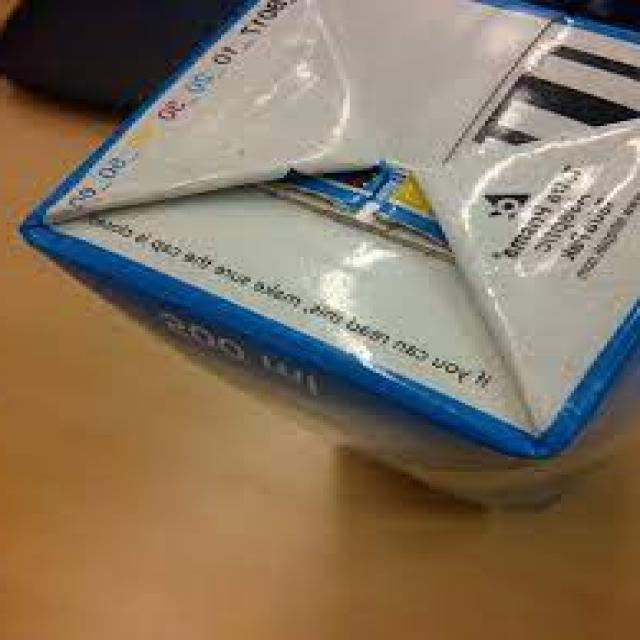cardboard: (23, 0, 640, 457)
